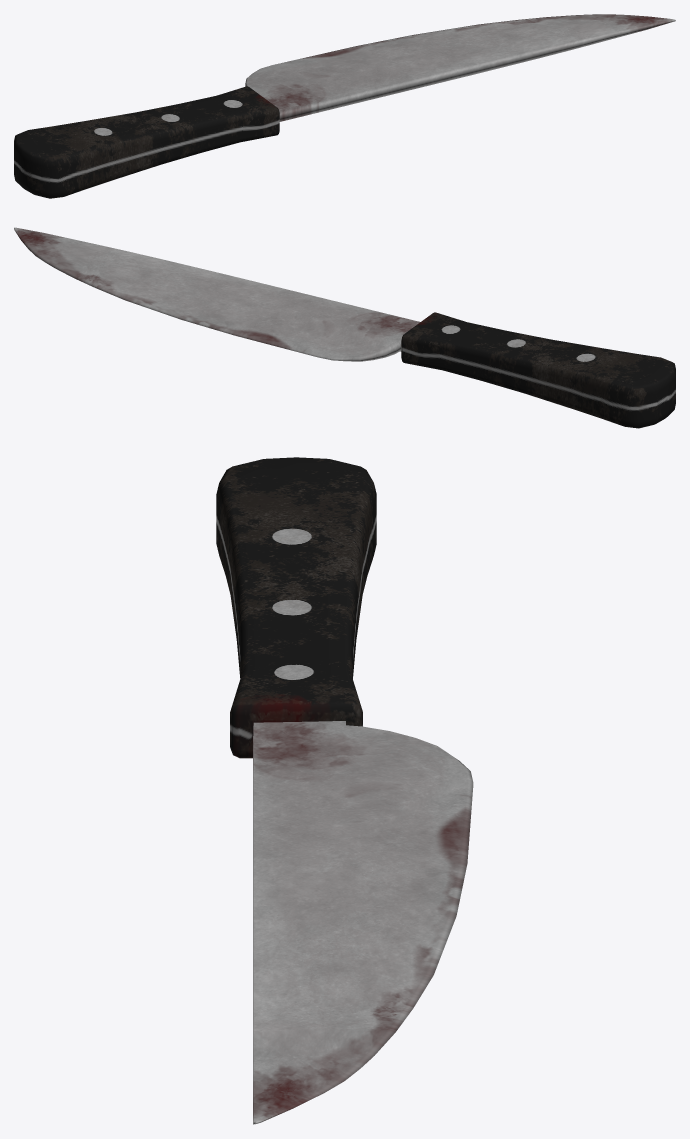
Rendered from SM_Knife.fbx.
3 renders of one model, top to bottom at view 1: azimuth 30°, elevation 25°; view 2: azimuth 150°, elevation 25°; view 3: azimuth 270°, elevation 25°, orthographic. The views are drawn at different scales.
Visible parts, largest first — view 1: RavingPuppet:model:knife; view 2: RavingPuppet:model:knife; view 3: RavingPuppet:model:knife.
Boxes of the visible parts, left/top/right/bottom form: RavingPuppet:model:knife: left=14, top=14, right=675, bottom=198; RavingPuppet:model:knife: left=14, top=227, right=675, bottom=428; RavingPuppet:model:knife: left=216, top=457, right=473, bottom=1124.
Size of the model in its own units: 50.67 by 3.09 by 8.76.
